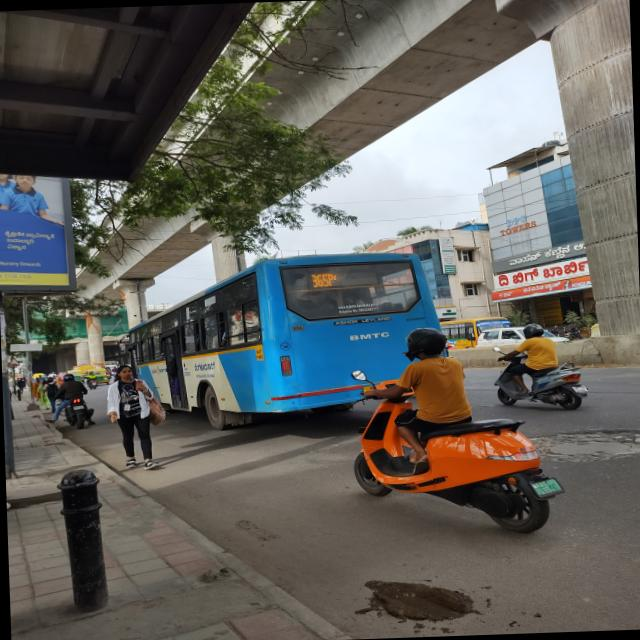bus: (122, 253, 453, 428)
display: (306, 268, 384, 288)
dnumber: (310, 272, 336, 286)
